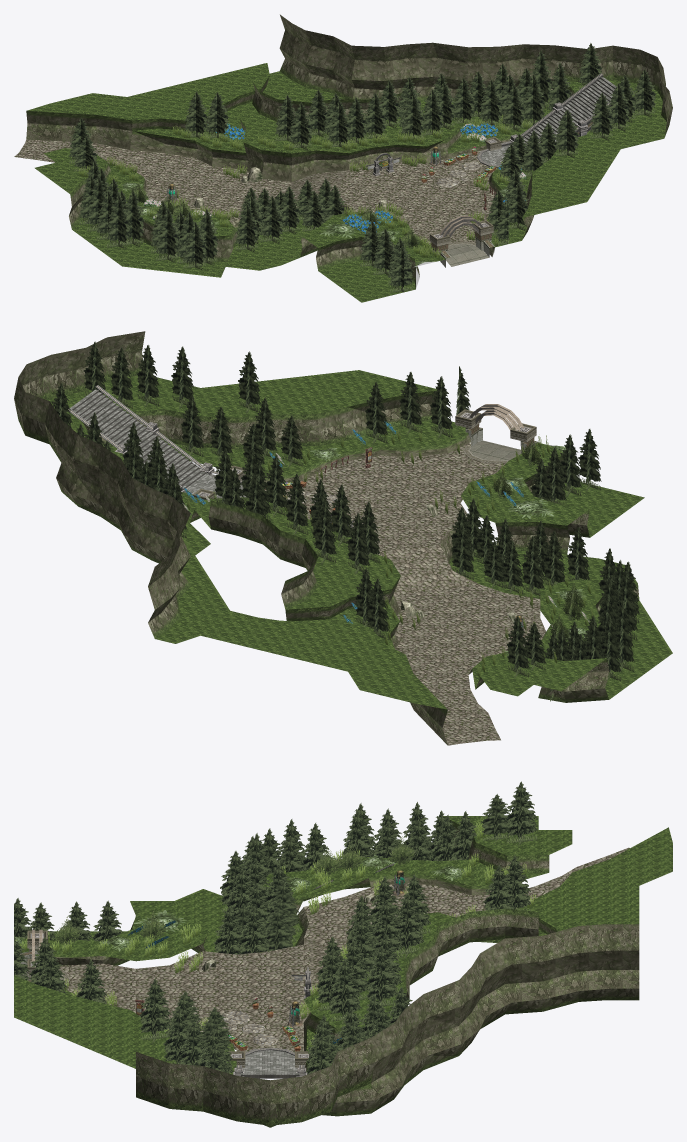
Rendered from North1.obj.
3 views of the same model, one above another, from view 1: azimuth 30°, elevation 25°; view 2: azimuth 150°, elevation 25°; view 3: azimuth 270°, elevation 25° (orthographic). The views are drawn at different scales.
Parts seen in each view (by area): view 1: Object.38, Object.51, Object.106, Object.35, Object.101, Object.34, Object.4, Object.46, Object.9, Object.14, Object.36, Object.173 (+70 smaller); view 2: Object.4, Object.14, Object.34, Object.173, Object.12, Object.118, Object.38, Object.35, Object.155, Object.163, Object.36, Object.33 (+65 smaller); view 3: Object.101, Object.38, Object.9, Object.35, Object.34, Object.12, Object.36, Object.173, Object.121, Object.32, Object.157, Object.51 (+61 smaller).
Boxes of the visible parts, <box> form: Object.38: <box>79,168,144,249</box>; Object.51: <box>150,201,218,269</box>; Object.106: <box>214,99,349,181</box>; Object.35: <box>275,89,351,150</box>; Object.101: <box>292,30,384,89</box>; Object.34: <box>235,186,300,252</box>; Object.4: <box>147,166,262,214</box>; Object.46: <box>433,63,521,127</box>; Object.9: <box>350,158,487,201</box>; Object.14: <box>404,185,494,237</box>; Object.36: <box>323,77,422,144</box>; Object.173: <box>492,140,611,196</box>; Object.4: <box>395,595,545,660</box>; Object.14: <box>303,453,464,509</box>; Object.34: <box>483,519,590,596</box>; Object.173: <box>201,378,353,475</box>; Object.12: <box>373,509,454,588</box>; Object.118: <box>198,407,366,449</box>; Object.38: <box>544,594,634,701</box>; Object.35: <box>313,484,380,575</box>; Object.155: <box>472,656,592,696</box>; Object.163: <box>230,586,387,646</box>; Object.36: <box>223,460,332,545</box>; Object.33: <box>210,366,303,467</box>; Object.101: <box>480,926,605,1015</box>; Object.38: <box>341,802,469,861</box>; Object.9: <box>209,980,318,1036</box>; Object.35: <box>346,874,430,958</box>; Object.34: <box>220,851,299,942</box>; Object.12: <box>197,944,327,991</box>; Object.36: <box>340,906,402,1007</box>; Object.173: <box>69,1002,231,1054</box>; Object.121: <box>203,1077,341,1125</box>; Object.32: <box>213,903,293,954</box>; Object.157: <box>573,857,672,913</box>; Object.51: <box>240,819,329,877</box>.
Size of the model in its own units: 96.5 by 18 by 78.56.
